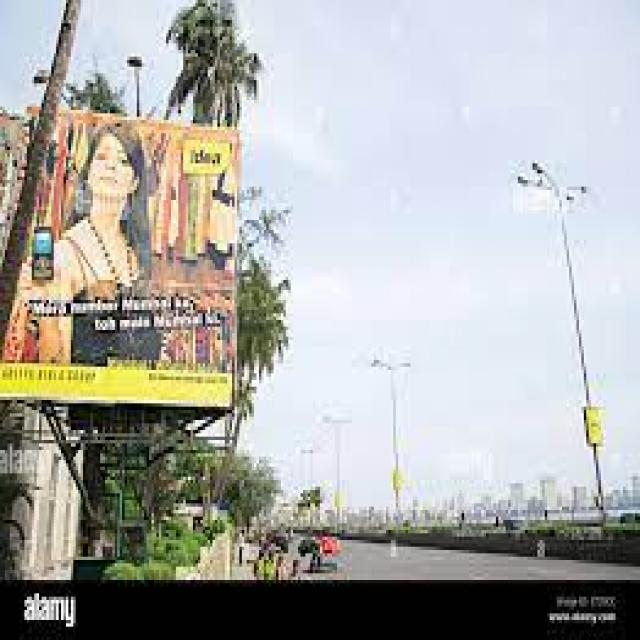Werbetafel frei: (0, 108, 232, 407)
